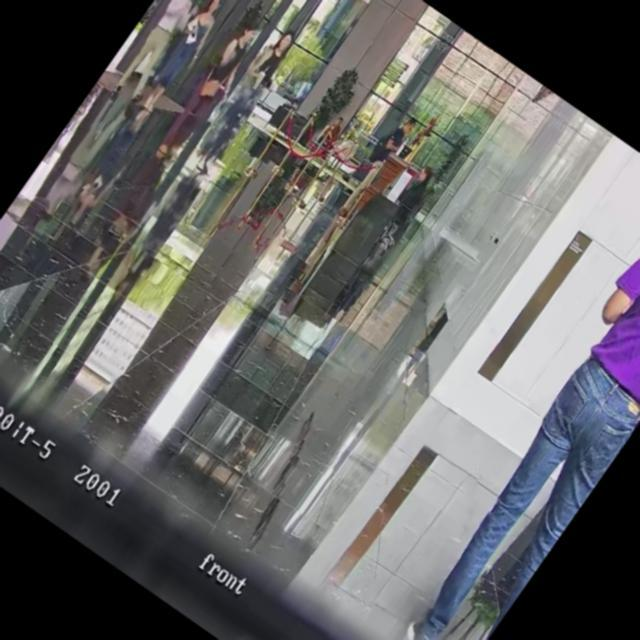person: (375, 185, 640, 640), (186, 26, 304, 178), (152, 17, 268, 165), (129, 0, 231, 118), (108, 0, 219, 107), (382, 163, 438, 234), (244, 26, 300, 92), (399, 110, 444, 166), (313, 110, 348, 152), (384, 114, 418, 155)
